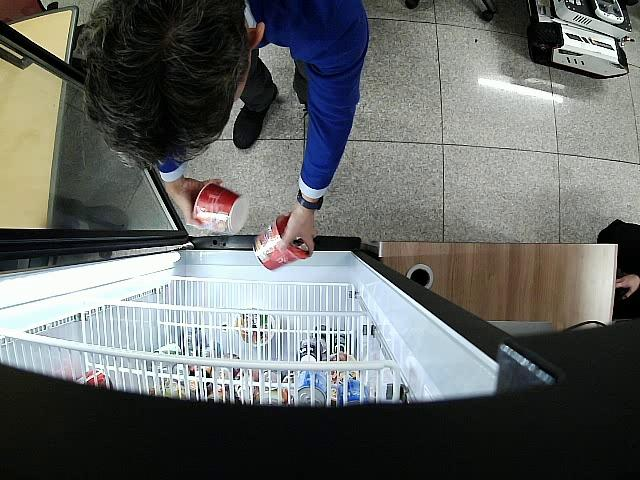00_hand: (165, 179, 222, 229), (278, 209, 318, 258)
01_shinRamen_L: (252, 216, 310, 270), (193, 184, 249, 236)
